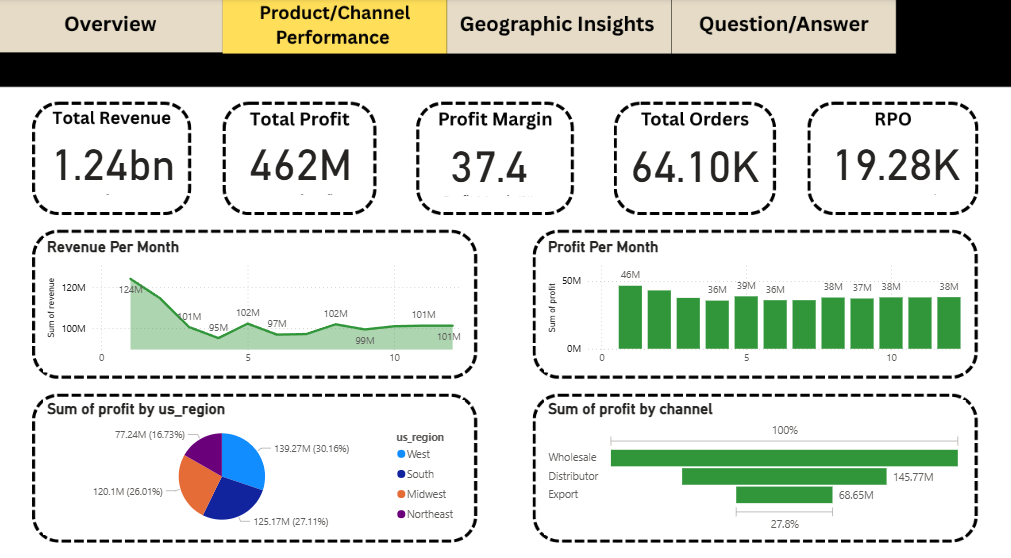

This screenshot's page, from the dashboard's own definition file:
{"tool":"powerbi","page":{"name":"Product/Channel Performance ","canvas":[1280,720],"ordinal":1},"visuals":[{"type":"actionButton","box":[0,0,286.5,69.2],"z":0},{"type":"actionButton","box":[565.4,0,286.5,69.2],"z":1000},{"type":"actionButton","box":[851.9,0,278.8,69.2],"z":2000},{"type":"card","fields":{"Values":["Sum(Sales_data(EDA Exported).revenue)"]},"box":[55.8,175,175,76.9],"z":3000},{"type":"card","fields":{"Values":["Sum(Sales_data(EDA Exported).profit)"]},"box":[286.5,175,186.5,76.9],"z":4000},{"type":"card","fields":{"Values":["CountNonNull(Sales_data(EDA Exported).order_number)"]},"box":[790.4,178.8,175,73.1],"z":5000},{"type":"card","fields":{"Values":["Sales_data(EDA Exported).Profit Margin(%)"]},"box":[548.1,176.9,140.4,76.9],"z":6000},{"type":"card","fields":{"Values":["Budget_Data.Revenue per order"]},"box":[1042.3,175,175,76.9],"z":7000},{"type":"lineChart","title":"Revenue Per Month  ","fields":{"Y":["Sum(Sales_data(EDA Exported).revenue)"],"Category":["Sales_data(EDA Exported).order_month_num"]},"box":[55.8,301.9,530.8,169.2],"z":8000},{"type":"columnChart","title":"Profit Per Month  ","fields":{"Category":["Sales_data(EDA Exported).order_month_num"],"Y":["Sum(Sales_data(EDA Exported).profit)"]},"box":[688.5,301.9,530.8,169.2],"z":9000},{"type":"pieChart","fields":{"Category":["Sales_data(EDA Exported).us_region"],"Y":["Sum(Sales_data(EDA Exported).profit)"]},"box":[56.7,506.5,531,170.1],"z":10000},{"type":"funnel","fields":{"Category":["Sales_data(EDA Exported).channel"],"Y":["Sum(Sales_data(EDA Exported).profit)"]},"box":[688,506,531,170],"z":11000}]}

Visuals, with their boxes in screenshot pixels (x1, y1, x2, y2), scaled from the page's 1280x720 canvas onto the 1011x558 screenshot:
actionButton: box=[0, 0, 226, 54]
actionButton: box=[447, 0, 673, 54]
actionButton: box=[673, 0, 893, 54]
card - Sum(Sales_data(EDA Exported).revenue): box=[44, 136, 182, 195]
card - Sum(Sales_data(EDA Exported).profit): box=[226, 136, 374, 195]
card - CountNonNull(Sales_data(EDA Exported).order_number): box=[624, 139, 763, 195]
card - Sales_data(EDA Exported).Profit Margin(%): box=[433, 137, 544, 197]
card - Budget_Data.Revenue per order: box=[823, 136, 961, 195]
"Revenue Per Month  " lineChart: box=[44, 234, 463, 365]
"Profit Per Month  " columnChart: box=[544, 234, 963, 365]
pieChart - Sales_data(EDA Exported).us_region x Sum(Sales_data(EDA Exported).profit): box=[45, 393, 464, 524]
funnel - Sales_data(EDA Exported).channel x Sum(Sales_data(EDA Exported).profit): box=[543, 392, 963, 524]
